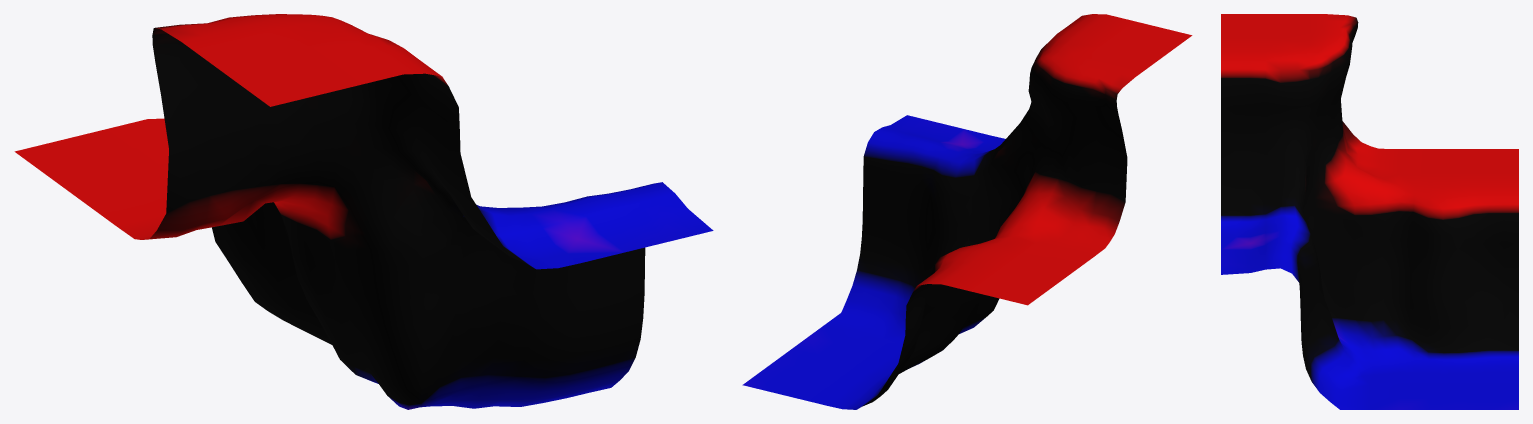
File: WaterFallCliff00D 2M.fbx
3 renders of one model, left to right at view 1: azimuth 30°, elevation 25°; view 2: azimuth 150°, elevation 25°; view 3: azimuth 270°, elevation 25°, orthographic. The views are drawn at different scales.
Parts seen in each view (by area): view 1: WaterFallCliff00D 2M; view 2: WaterFallCliff00D 2M; view 3: WaterFallCliff00D 2M.
Part boxes in pixels (bbox=[...]): WaterFallCliff00D 2M: bbox=[14, 14, 713, 409]; WaterFallCliff00D 2M: bbox=[742, 14, 1192, 409]; WaterFallCliff00D 2M: bbox=[1221, 14, 1518, 409].
Bounding box in the file's own units: 2 × 2 × 2.
